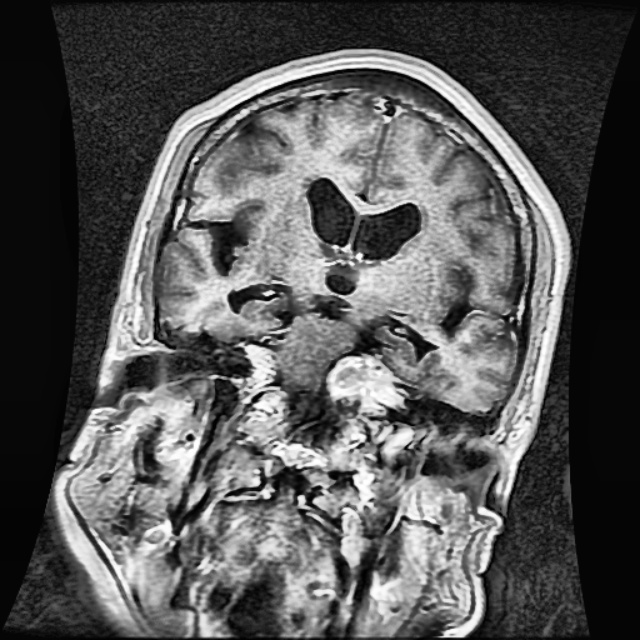Glioma: (332, 353, 405, 413)
